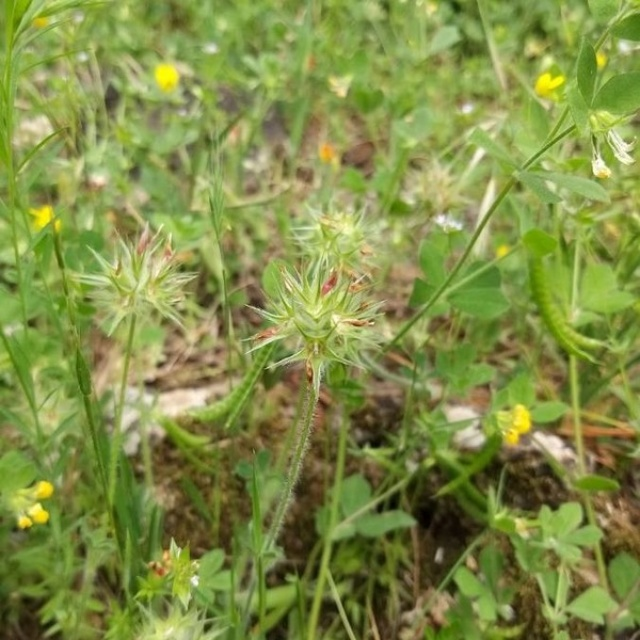obstacle: (458, 23, 633, 527), (25, 183, 224, 591), (214, 173, 373, 595), (484, 475, 625, 628)
